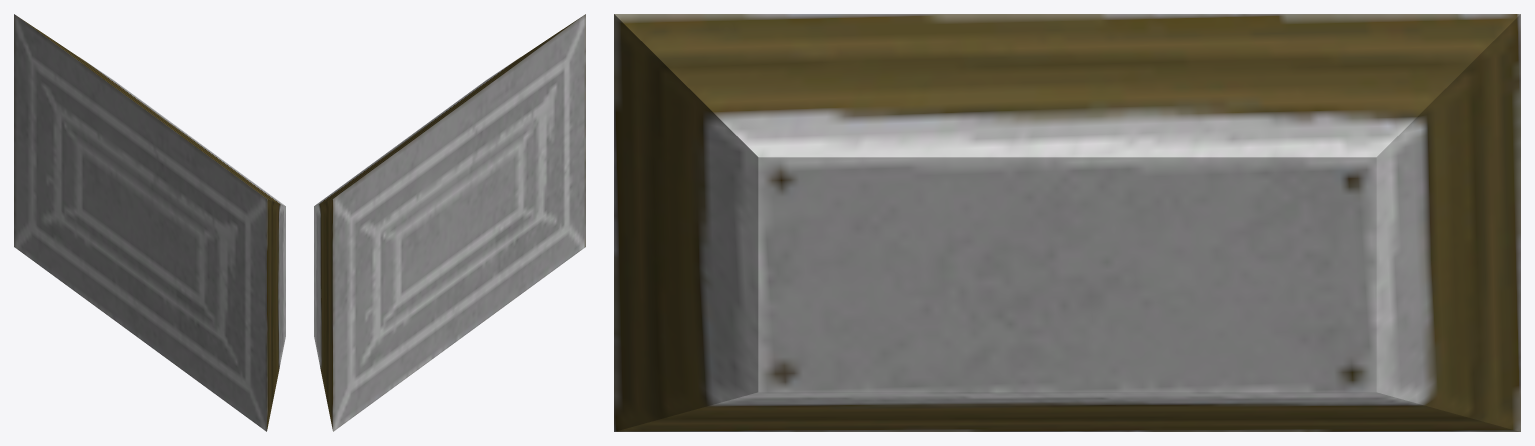
The model's file is plane_interior_top_lights_off.dae.
The picture shows the model from 3 angles, left to right: view 1: azimuth 30°, elevation 25°; view 2: azimuth 150°, elevation 25°; view 3: azimuth 270°, elevation 25°; orthographic projection. The views are drawn at different scales.
Visible parts, largest first — view 1: plane_interior_top_lights_off; view 2: plane_interior_top_lights_off; view 3: plane_interior_top_lights_off.
Boxes of the visible parts, x1,y1,x2,y2 form: plane_interior_top_lights_off: (14,14,285,431); plane_interior_top_lights_off: (314,14,585,431); plane_interior_top_lights_off: (614,14,1520,431).
Bounding box in the file's own units: 2.63 × 9.91 × 19.48.
